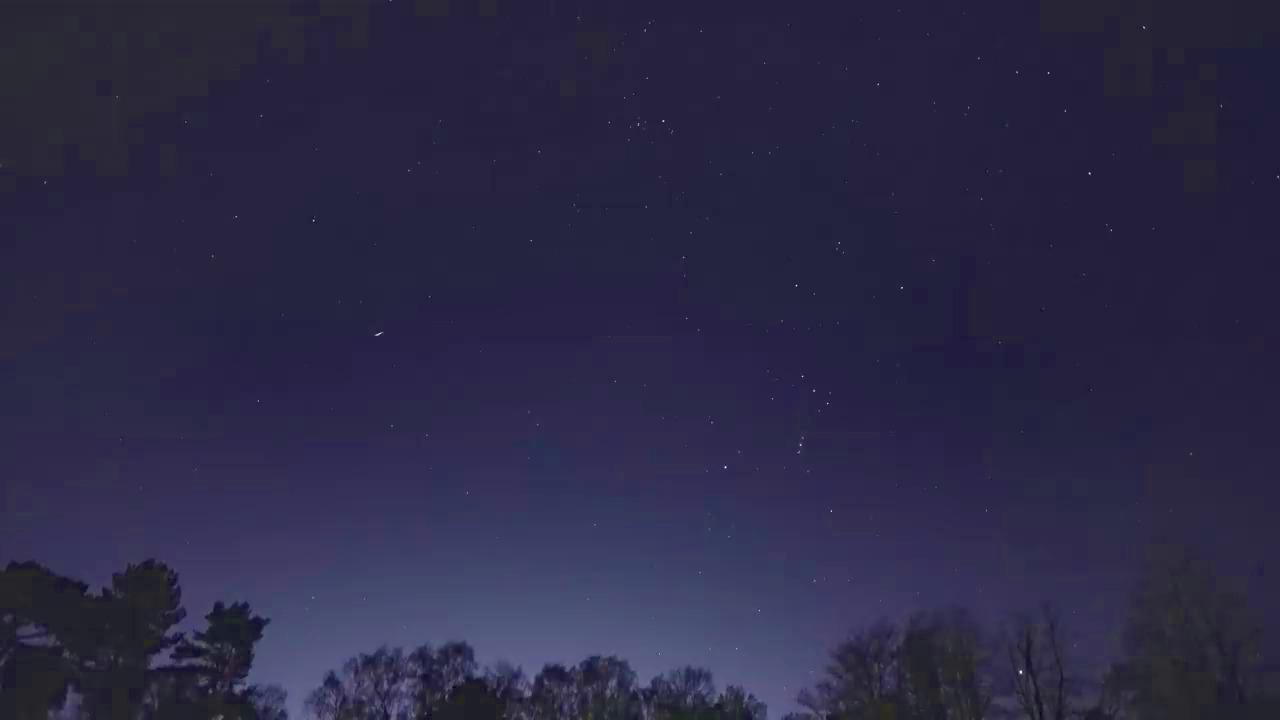meteorite: (358, 325, 398, 343)
